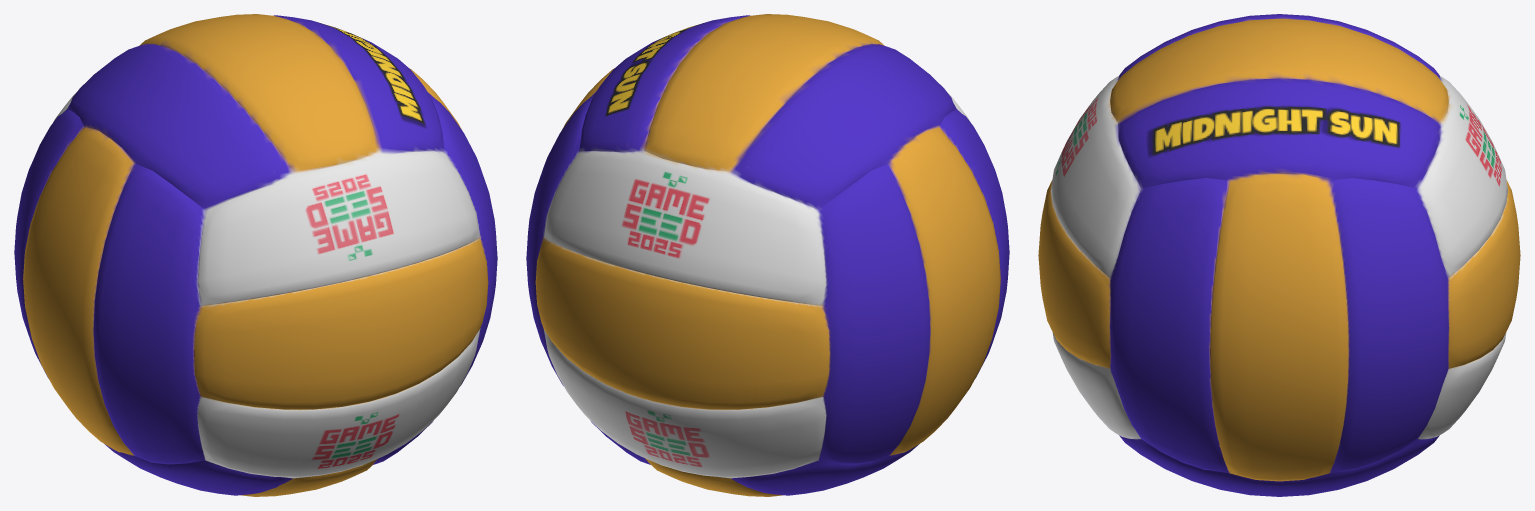
The model's file is Volyball.fbx.
The picture shows the model from 3 angles, left to right: view 1: azimuth 30°, elevation 25°; view 2: azimuth 150°, elevation 25°; view 3: azimuth 270°, elevation 25°; orthographic projection.
Parts seen in each view (by area): view 1: Bake; view 2: Bake; view 3: Bake.
Part boxes in pixels (left/top/right/bottom): Bake: left=14, top=14, right=497, bottom=496; Bake: left=526, top=14, right=1009, bottom=496; Bake: left=1038, top=14, right=1520, bottom=496.
Bounding box in the file's own units: 73.58 × 73.58 × 73.58.
Materials: 1 (1 with a texture image).
